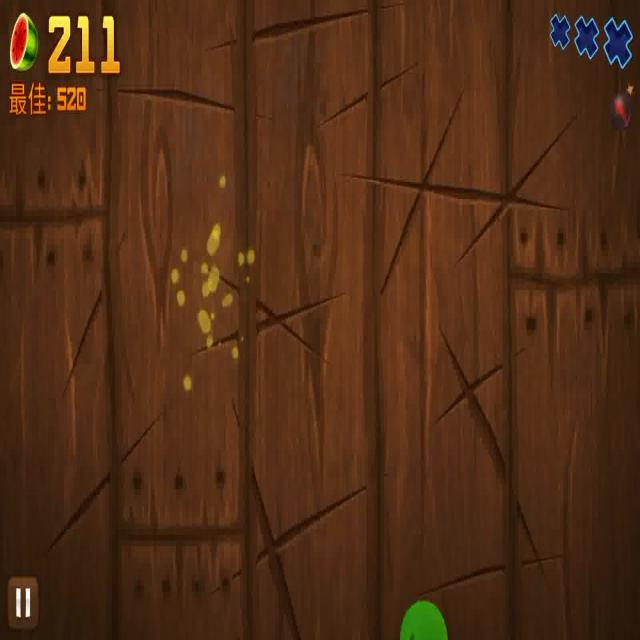fruit: (397, 596, 450, 640)
